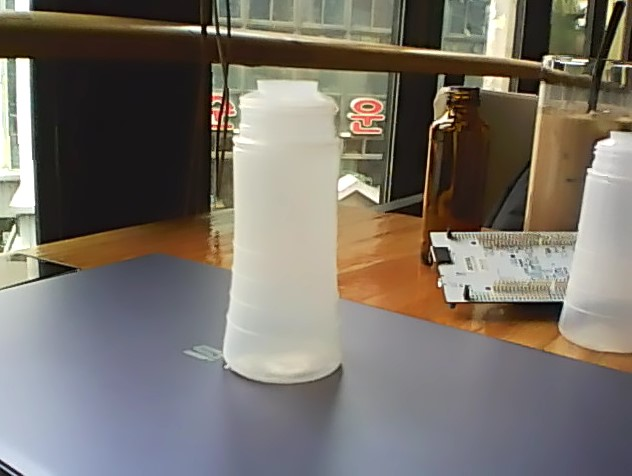Plastic: (220, 75, 343, 387)
